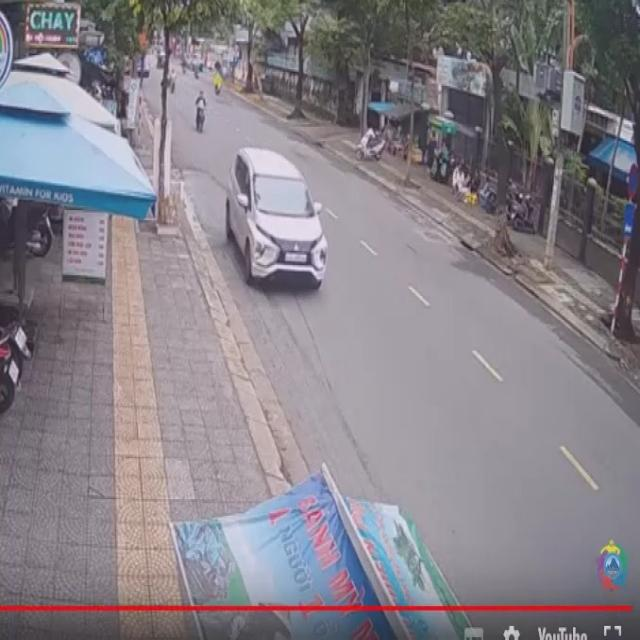car: (224, 147, 330, 300)
